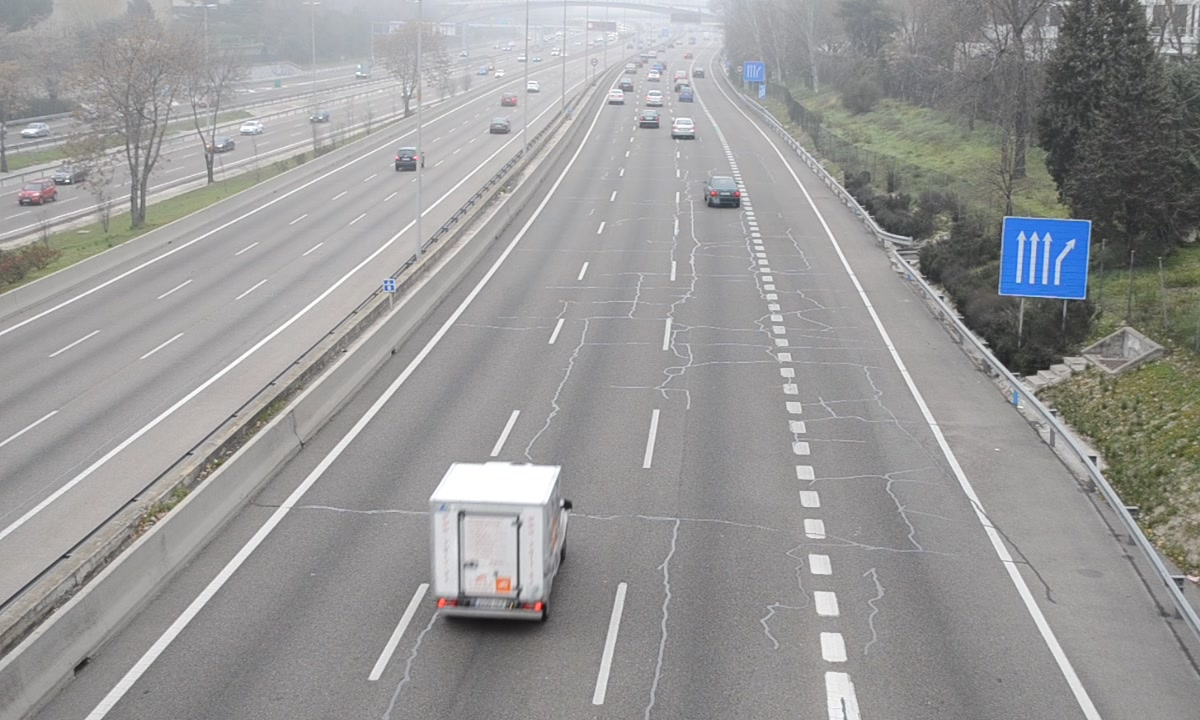car: (701, 173, 741, 209)
small-truck: (431, 463, 568, 621)
